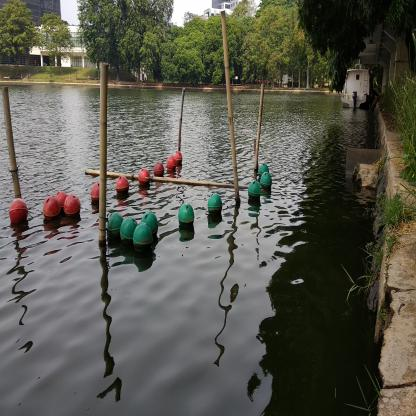green_buoy: (134, 221, 156, 257), (119, 215, 137, 253), (107, 211, 123, 247), (177, 201, 193, 231), (207, 191, 222, 220), (247, 180, 260, 206), (260, 170, 273, 192)
red_buoy: (8, 195, 29, 224), (63, 191, 82, 223), (43, 195, 59, 230), (115, 169, 129, 202), (90, 180, 101, 210), (137, 167, 150, 189), (153, 158, 165, 178), (167, 154, 176, 174), (174, 152, 183, 166)
